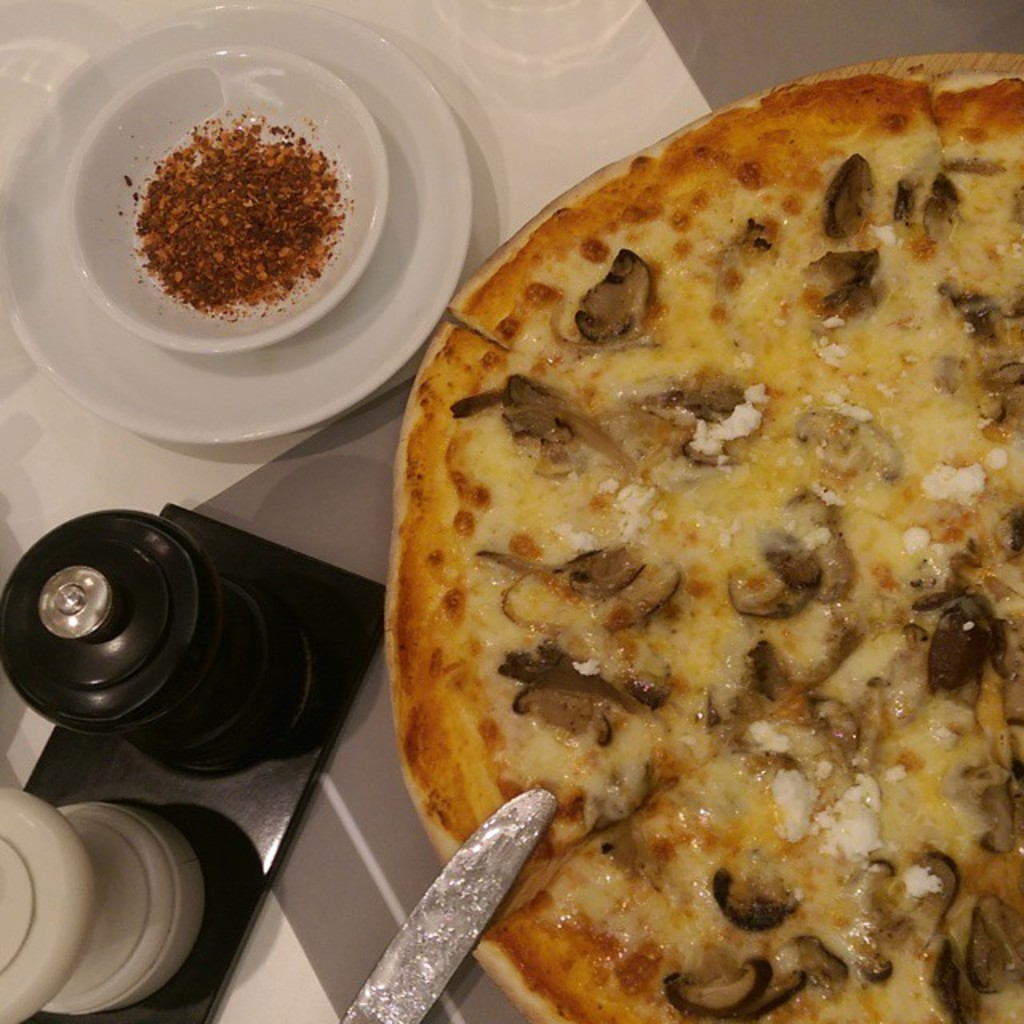Pizza: (385, 73, 1022, 1022)
